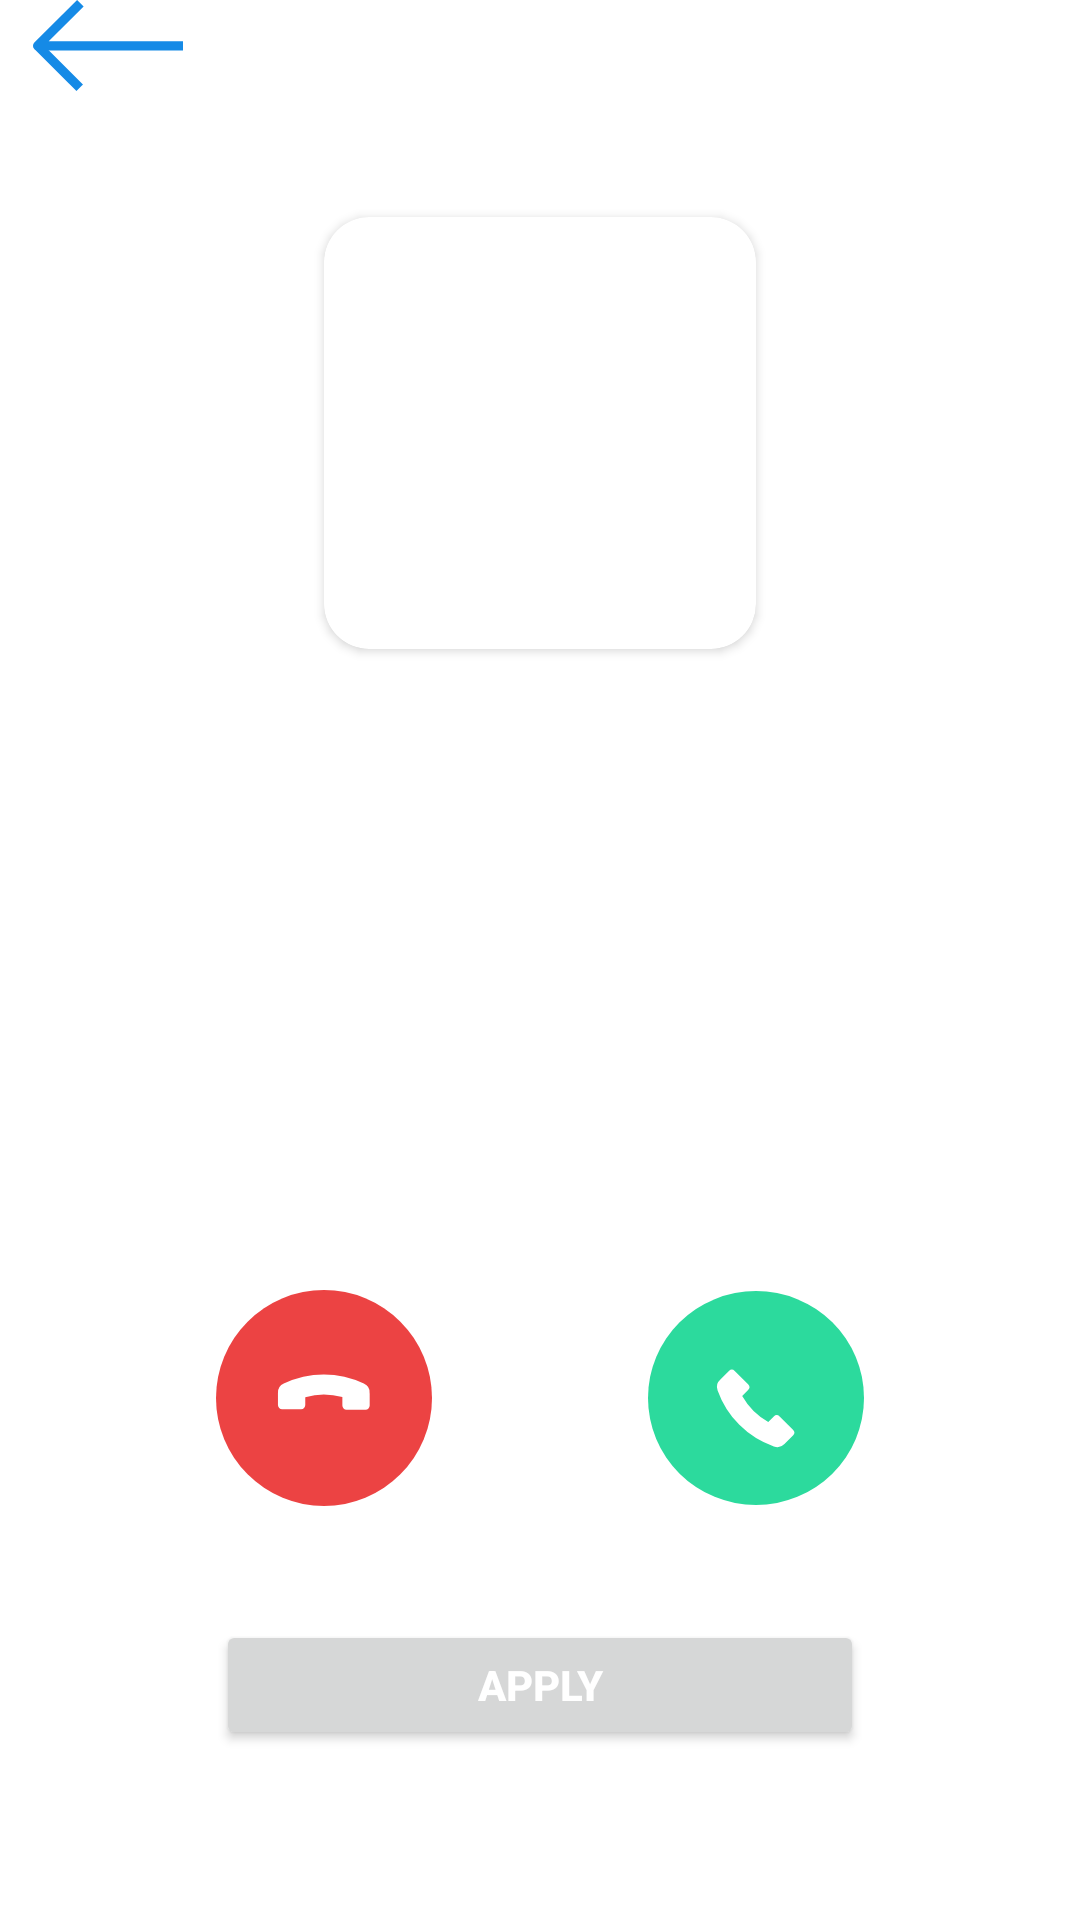

Where icons sit on this 1080px×1920px app screen, as bbox=(x1, y1, x2, y2):
back: bbox=(33, 0, 183, 91)
call: bbox=(648, 1291, 864, 1505)
cancle: bbox=(216, 1290, 432, 1506)
